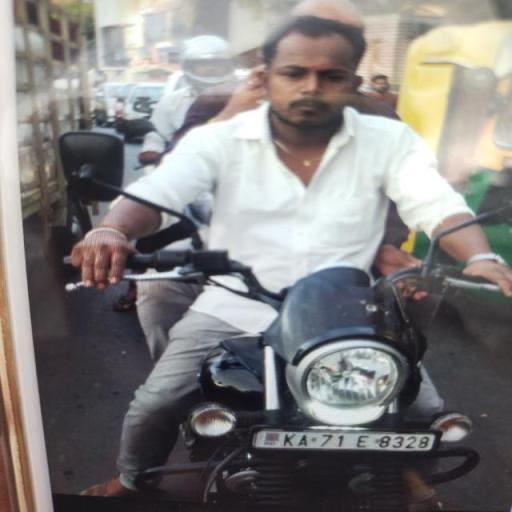bike: (44, 5, 506, 511)
numberplate: (256, 426, 437, 460)
withouthelmet: (264, 19, 364, 126)
